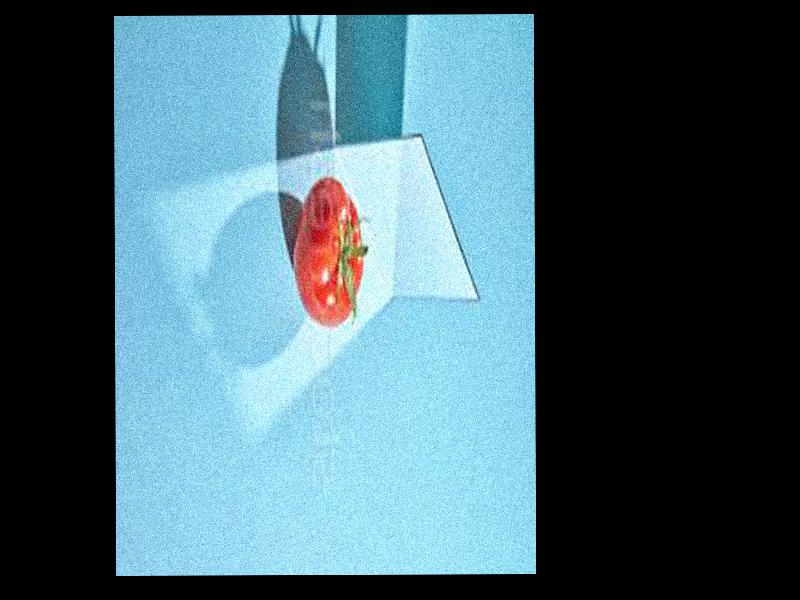Tomato: (292, 176, 363, 326)
